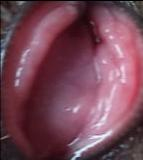eye_membrane: (1, 0, 142, 160)
